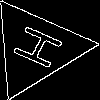H: (11, 23, 74, 76)
